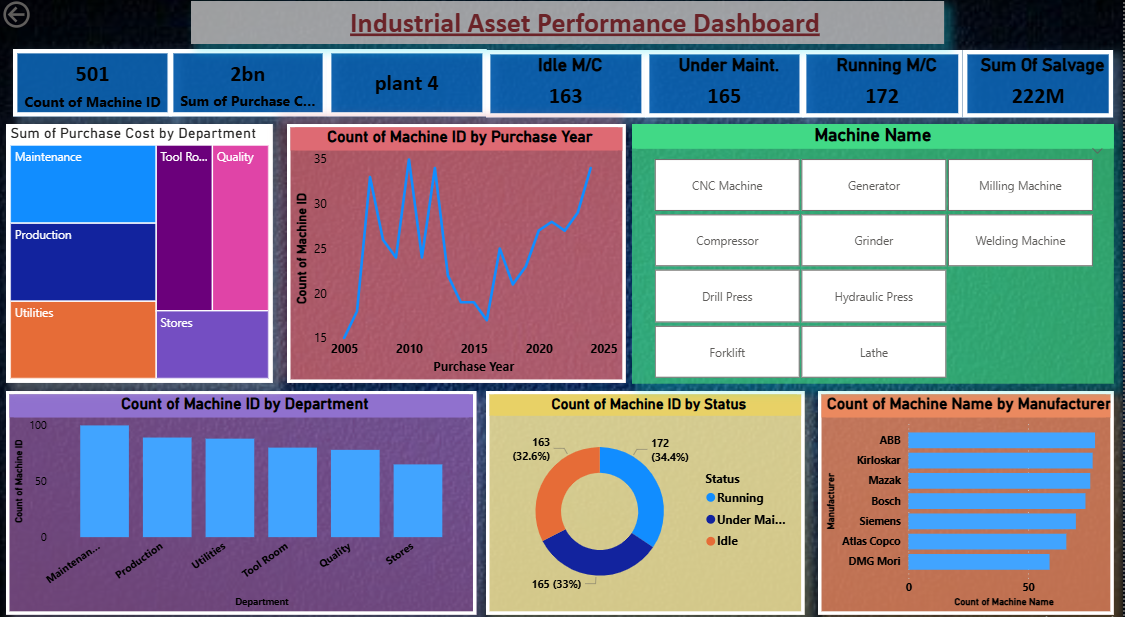

Layout of this report page (visuals, bound fields, positions):
{"tool":"powerbi","page":{"name":"Page 1","canvas":[1280,720],"ordinal":0},"visuals":[{"type":"card","fields":{"Values":["Count(Assets.Machine ID)"]},"box":[15.8,59,181.2,77.4],"z":0},{"type":"card","fields":{"Values":["Sum(Assets.Purchase Cost)"]},"box":[193.9,59.2,179.6,76.5],"z":1000},{"type":"card","fields":{"Values":["Assets.Most Machines Location"]},"box":[373.5,59.2,181.6,76.5],"z":2000},{"type":"card","title":"Idle M/C","fields":{"Values":["CountNonNull(Assets.Machine ID)"]},"box":[555.1,60.2,181.6,76.5],"z":3000},{"type":"card","title":"Under Maint.","fields":{"Values":["CountNonNull(Assets.Machine ID)"]},"box":[735.7,60.2,180.6,76.5],"z":4000},{"type":"card","title":"Running M/C","fields":{"Values":["CountNonNull(Assets.Machine ID)"]},"box":[915.3,60.2,182.7,76.5],"z":5000},{"type":"card","title":"Sum Of Salvage","fields":{"Values":["Sum(Assets.Salvage Value)"]},"box":[1098,60.2,171.4,76.5],"z":6000},{"type":"actionButton","box":[0,0,100,40],"z":7000},{"type":"clusteredColumnChart","fields":{"Category":["Assets.Department"],"Y":["CountNonNull(Assets.Machine ID)"]},"box":[8.4,448.7,536.3,255.5],"z":8000},{"type":"donutChart","fields":{"Category":["Assets.Status"],"Y":["CountNonNull(Assets.Machine ID)"]},"box":[554.5,448.7,362.9,255.4],"z":9000},{"type":"treemap","fields":{"Group":["Assets.Department"],"Values":["Sum(Assets.Purchase Cost)"]},"box":[8.2,144.9,304.1,294.9],"z":10000},{"type":"lineChart","fields":{"Category":["Assets.Purchase Year"],"Y":["CountNonNull(Assets.Machine ID)"]},"box":[328.6,144.9,385.7,294.9],"z":11000},{"type":"clusteredBarChart","fields":{"Category":["Assets.Manufacturer"],"Y":["CountNonNull(Assets.Machine Name)"]},"box":[933,448.7,337.1,255.4],"z":12000},{"type":"slicer","title":"Machine Name","fields":{"Values":["Assets.Machine Name"]},"box":[721.4,144.9,549,295.9],"z":13000},{"type":"textbox","box":[218.8,5,857.5,48.8],"z":13001}]}

Visuals, with their boxes in screenshot pixels (x1, y1, x2, y2), scaled from the page's 1280x720 canvas onto the 1125x617 screenshot:
card - Count(Assets.Machine ID): crop(14, 51, 173, 117)
card - Sum(Assets.Purchase Cost): crop(170, 51, 328, 116)
card - Assets.Most Machines Location: crop(328, 51, 488, 116)
"Idle M/C" card: crop(488, 52, 647, 117)
"Under Maint." card: crop(647, 52, 805, 117)
"Running M/C" card: crop(804, 52, 965, 117)
"Sum Of Salvage" card: crop(965, 52, 1116, 117)
actionButton: crop(0, 0, 88, 34)
clusteredColumnChart - Assets.Department x CountNonNull(Assets.Machine ID): crop(7, 385, 479, 603)
donutChart - Assets.Status x CountNonNull(Assets.Machine ID): crop(487, 385, 806, 603)
treemap - Assets.Department x Sum(Assets.Purchase Cost): crop(7, 124, 274, 377)
lineChart - Assets.Purchase Year x CountNonNull(Assets.Machine ID): crop(289, 124, 628, 377)
clusteredBarChart - Assets.Manufacturer x CountNonNull(Assets.Machine Name): crop(820, 385, 1116, 603)
"Machine Name" slicer: crop(634, 124, 1117, 378)
textbox: crop(192, 4, 946, 46)
